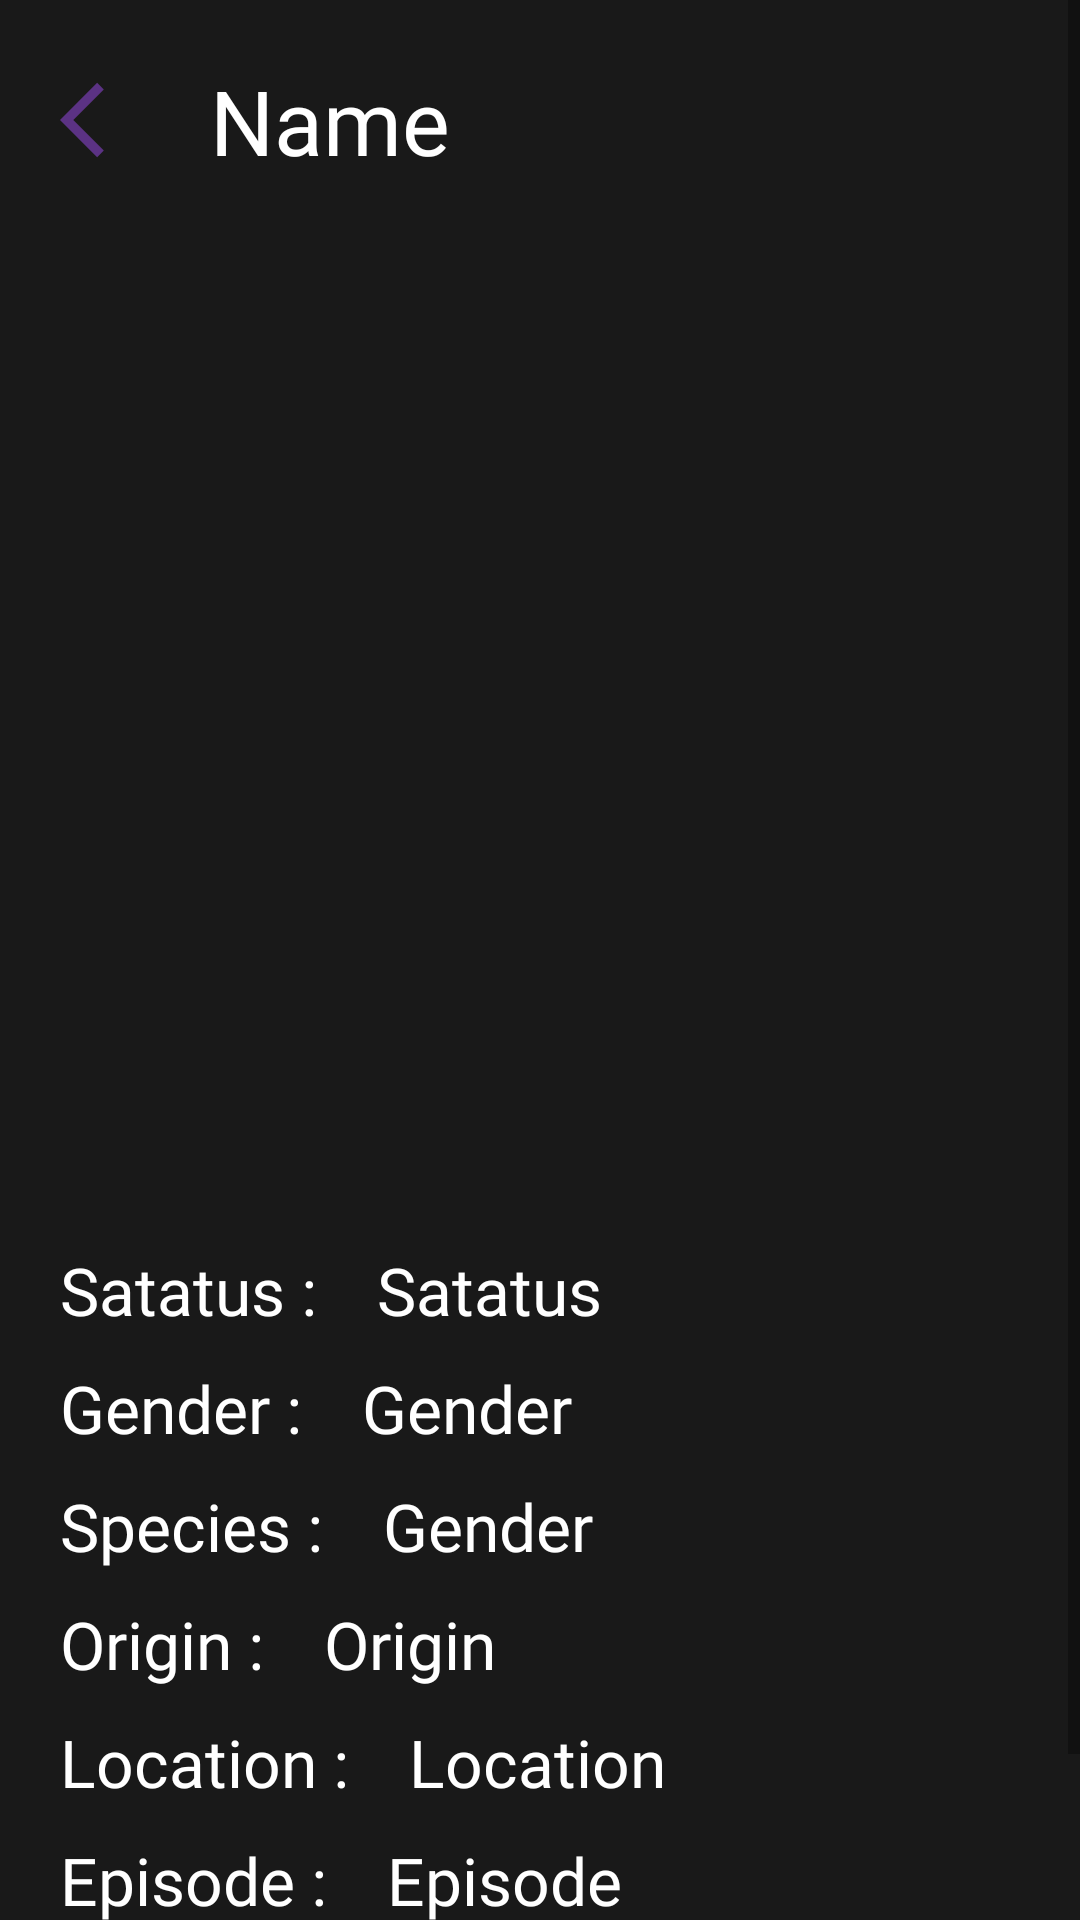

Icons on this 1080px x 1920px Android screen, each with its box as bbox(x1, y1, x2, y2):
back arrow: bbox(60, 83, 104, 157)
